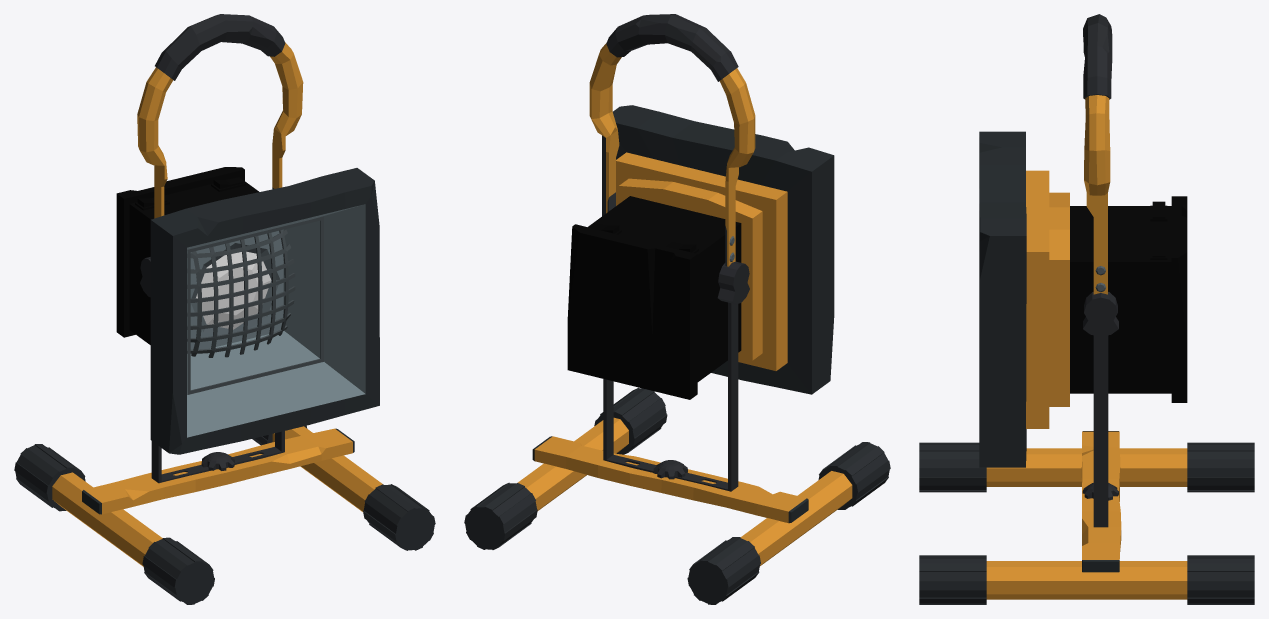
Rendered from SM_BUILDING_LAMP.gltf.
3 renders of one model, left to right at view 1: azimuth 30°, elevation 25°; view 2: azimuth 150°, elevation 25°; view 3: azimuth 270°, elevation 25°, orthographic. The views are drawn at different scales.
Visible parts, largest first — view 1: SM_BUILDING_LAMP; view 2: SM_BUILDING_LAMP; view 3: SM_BUILDING_LAMP.
Part boxes in pixels (bbox=[...]): SM_BUILDING_LAMP: bbox=[14, 14, 435, 604]; SM_BUILDING_LAMP: bbox=[464, 14, 890, 604]; SM_BUILDING_LAMP: bbox=[919, 14, 1254, 604].
Size of the model in its own units: 0.3004 by 0.5507 by 0.3194.
